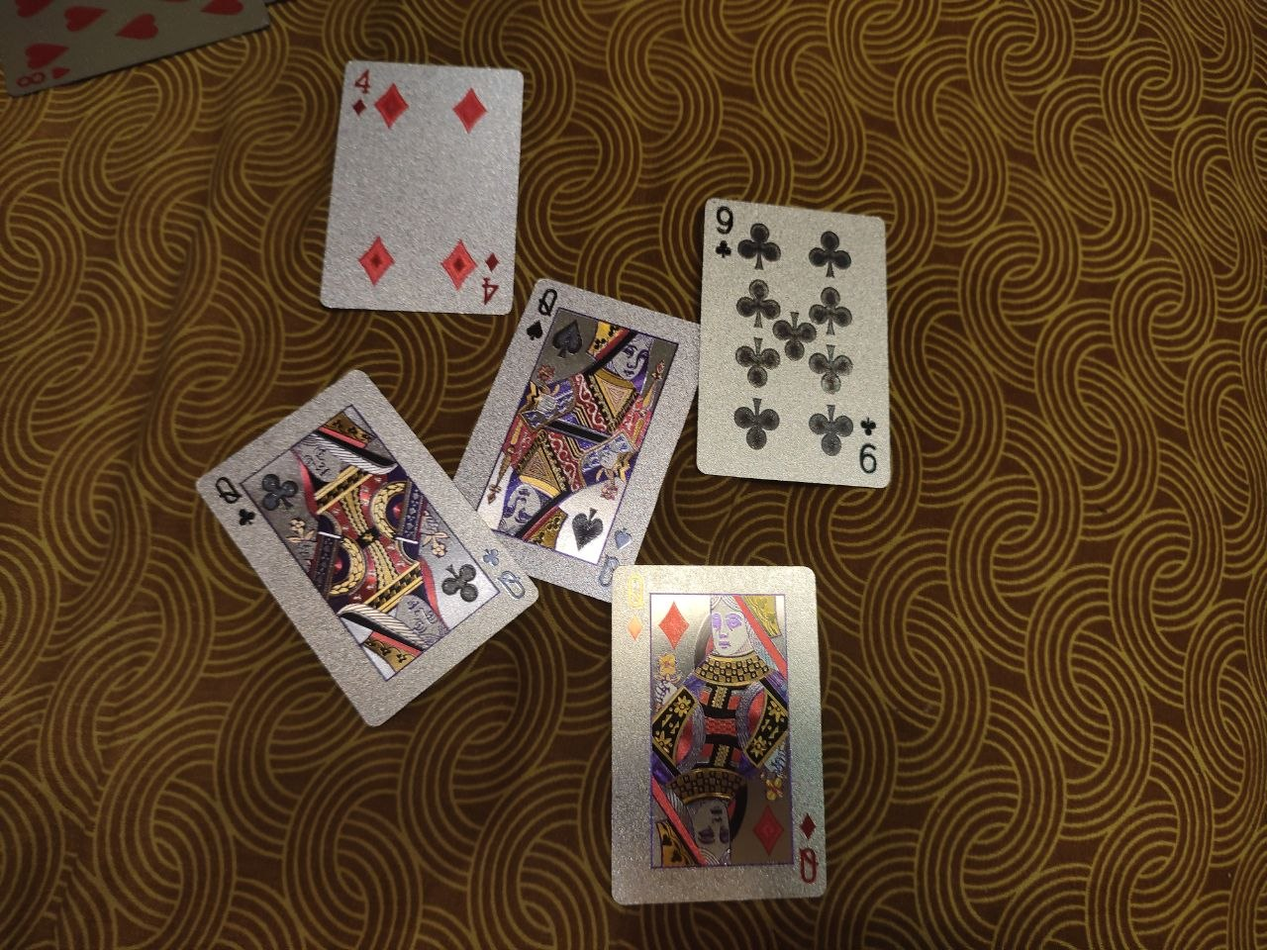4D: (317, 57, 528, 319)
9C: (693, 190, 896, 492)
QC: (197, 368, 537, 729)
QD: (608, 560, 832, 907)
QS: (452, 275, 703, 601)
